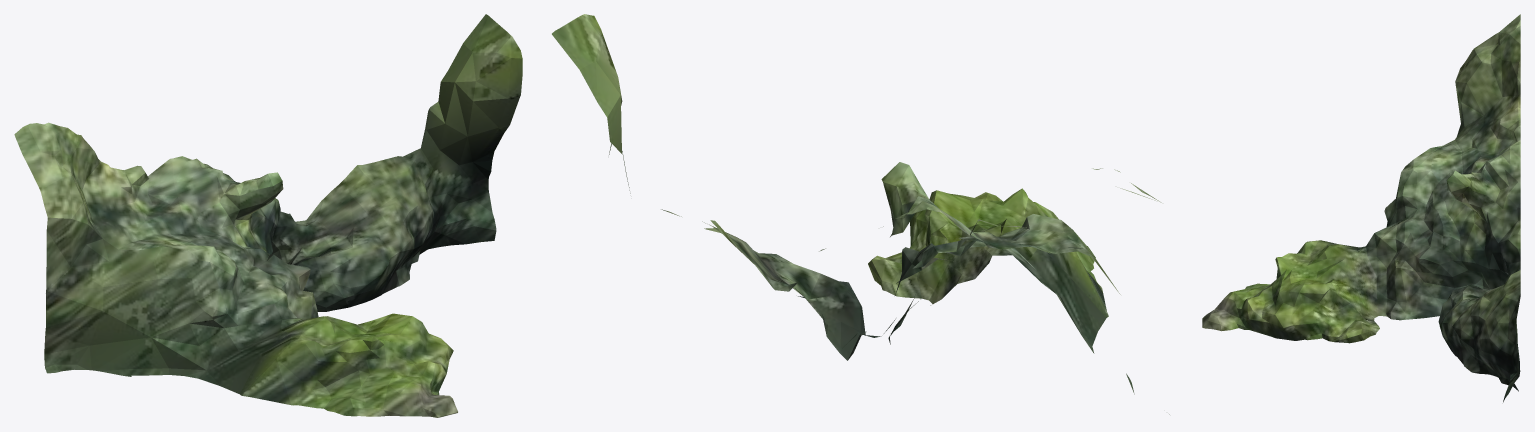
3 renders of one model, left to right at view 1: azimuth 30°, elevation 25°; view 2: azimuth 150°, elevation 25°; view 3: azimuth 270°, elevation 25°, orthographic. The views are drawn at different scales.
Bounding box in the file's own units: 26.11 × 11.75 × 16.88.
Materials: 2 (2 with a texture image).
